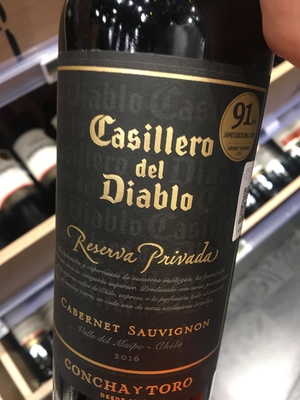casillero del diablo reserva privada cabernet sauvignon: (44, 16, 271, 400)
